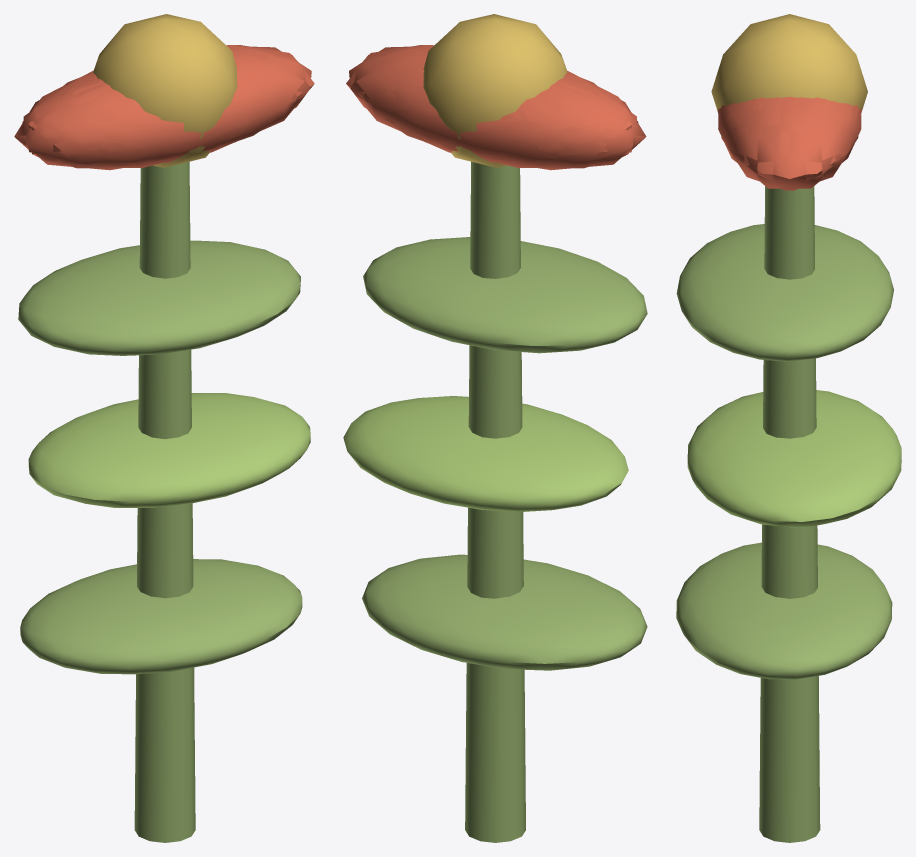
The model's file is rauvolfia-tetraphylla.glb.
The picture shows the model from 3 angles, left to right: view 1: azimuth 30°, elevation 25°; view 2: azimuth 150°, elevation 25°; view 3: azimuth 270°, elevation 25°; orthographic projection.
Parts seen in each view (by area): view 1: stem, leaf2, leaf0, leaf1, center, petal6, petal2, petal1, petal5, petal7, petal0; view 2: stem, leaf2, leaf1, leaf0, center, petal3, petal7, petal8, petal4, petal2, petal0; view 3: stem, leaf1, leaf2, leaf0, center, petal0, petal5, petal4, petal1, petal8.
Part boxes in pixels (x1,y1,x2,y2): stem: [134, 161, 195, 842]; leaf2: [18, 240, 300, 355]; leaf0: [20, 559, 302, 674]; leaf1: [28, 393, 310, 507]; center: [93, 14, 237, 167]; petal6: [31, 84, 223, 168]; petal2: [23, 78, 171, 170]; petal1: [99, 63, 297, 166]; petal5: [160, 53, 314, 158]; petal7: [14, 73, 111, 161]; petal0: [230, 46, 311, 142]; stem: [465, 161, 525, 842]; leaf2: [363, 237, 647, 353]; leaf1: [343, 396, 628, 512]; leaf0: [362, 554, 647, 670]; center: [423, 14, 567, 167]; petal3: [436, 84, 629, 168]; petal7: [489, 78, 636, 170]; petal8: [363, 63, 561, 166]; petal4: [346, 53, 500, 158]; petal2: [548, 73, 646, 161]; petal0: [349, 46, 429, 142]; stem: [759, 186, 820, 842]; leaf1: [687, 390, 901, 527]; leaf2: [676, 224, 893, 361]; leaf0: [676, 542, 892, 679]; center: [711, 14, 867, 110]; petal0: [732, 96, 847, 188]; petal5: [721, 97, 801, 190]; petal4: [778, 97, 858, 190]; petal1: [718, 97, 766, 163]; petal8: [812, 97, 861, 163].
Bounding box in the file's own units: 0.1541 × 0.4104 × 0.1036.
